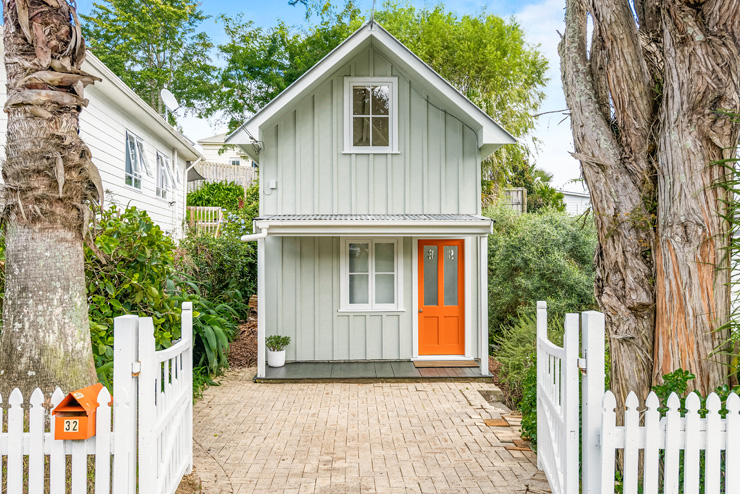Window: (345, 80, 399, 152), (344, 244, 400, 310), (420, 247, 461, 311), (126, 145, 150, 189)
